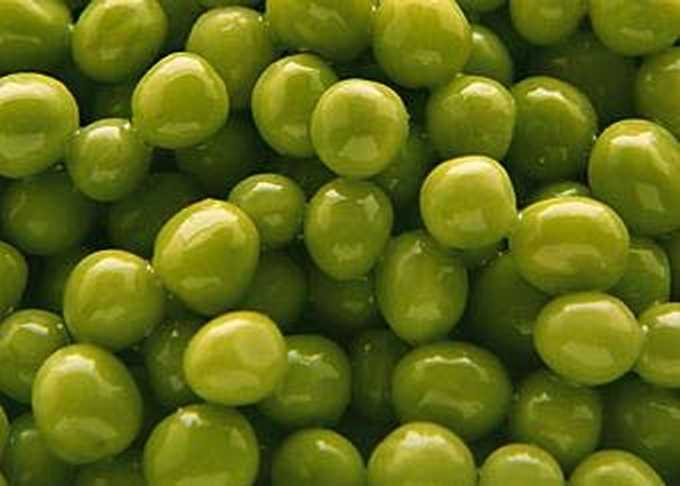boiled peas: (1, 2, 668, 478)
